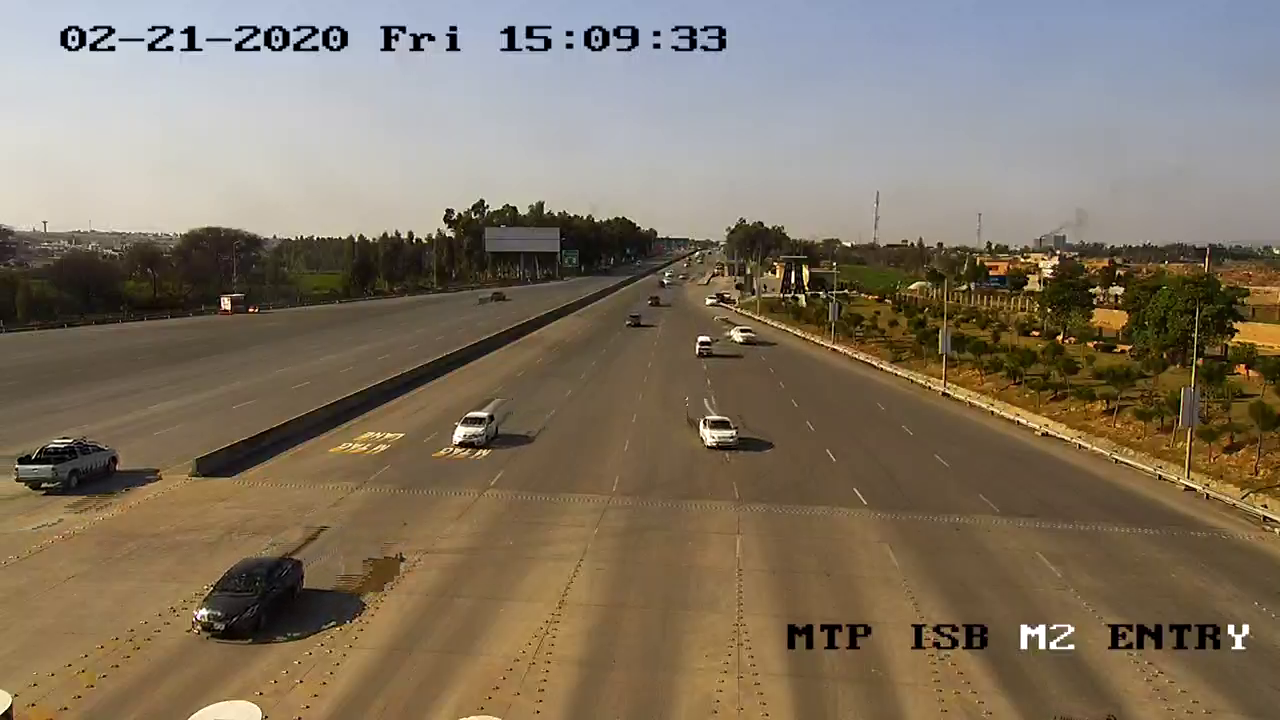f1: (186, 543, 313, 645)
